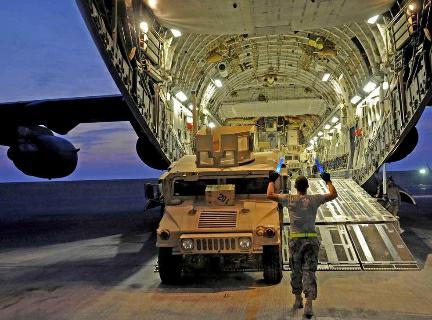悍马-H1: (149, 128, 291, 287)
